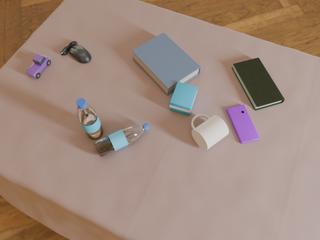book: (132, 33, 201, 95), (232, 58, 285, 110)
bottle: (94, 123, 149, 157), (76, 98, 103, 139)
box: (170, 82, 198, 116)
cup: (191, 114, 229, 150)
mouse: (60, 41, 91, 63)
phone: (227, 105, 260, 144)
toy_car: (26, 54, 51, 78)
